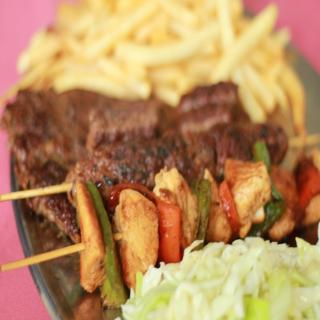French fries: (106, 8, 305, 134)
